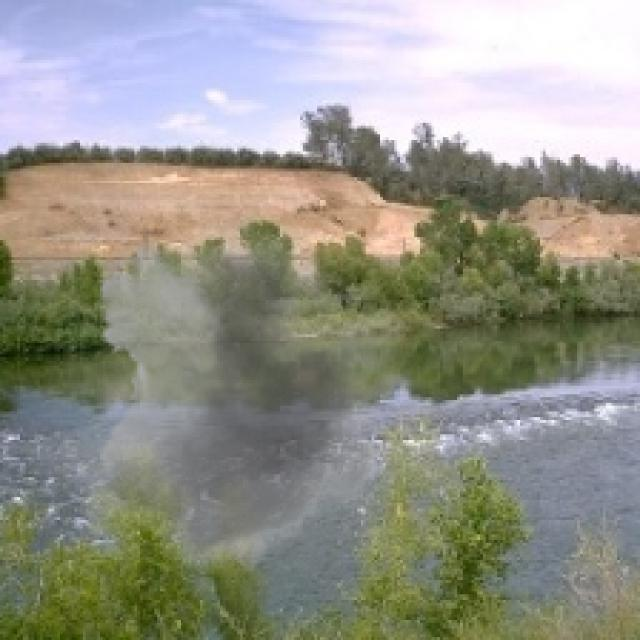Smoke: (17, 217, 423, 586)
